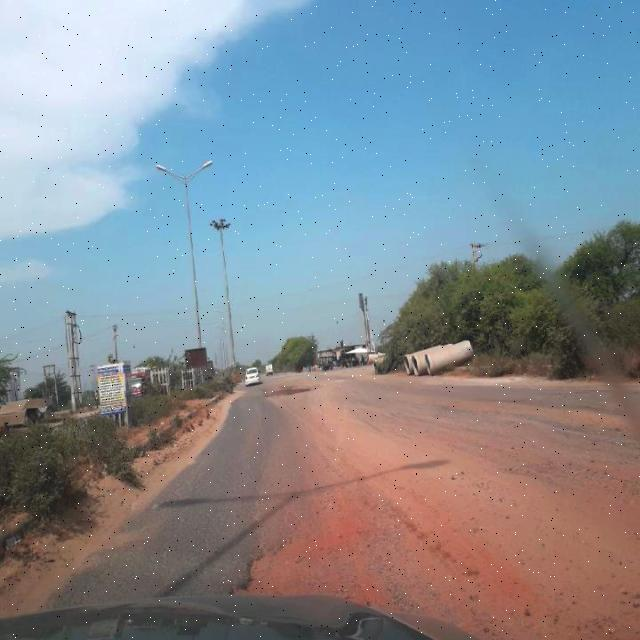D40: (227, 430, 640, 590)
